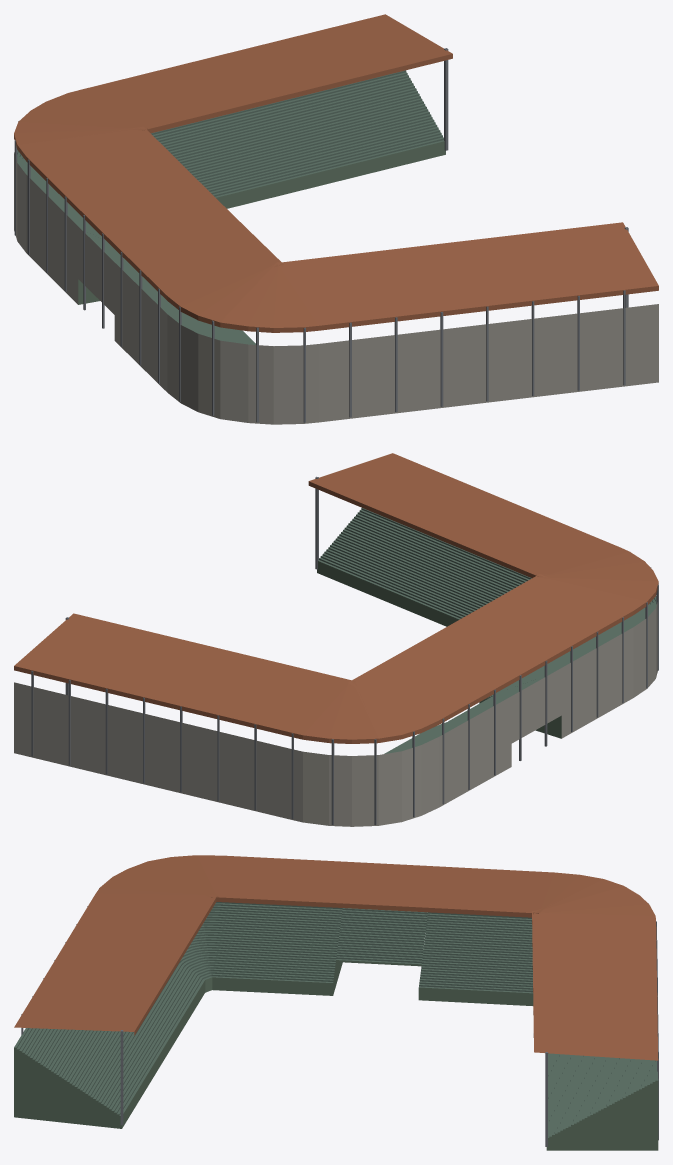
The model's file is foro_sol.glb.
3 renders of one model, top to bottom at view 1: azimuth 30°, elevation 25°; view 2: azimuth 150°, elevation 25°; view 3: azimuth 270°, elevation 25°, orthographic. The views are drawn at different scales.
Parts seen in each view (by area): view 1: chunk_0_0; view 2: chunk_0_0; view 3: chunk_0_0.
Part boxes in pixels (<box>): chunk_0_0: <box>14,14,658,424</box>; chunk_0_0: <box>14,453,658,826</box>; chunk_0_0: <box>14,855,658,1150</box>.
Size of the model in its own units: 156 by 34.5 by 205.
